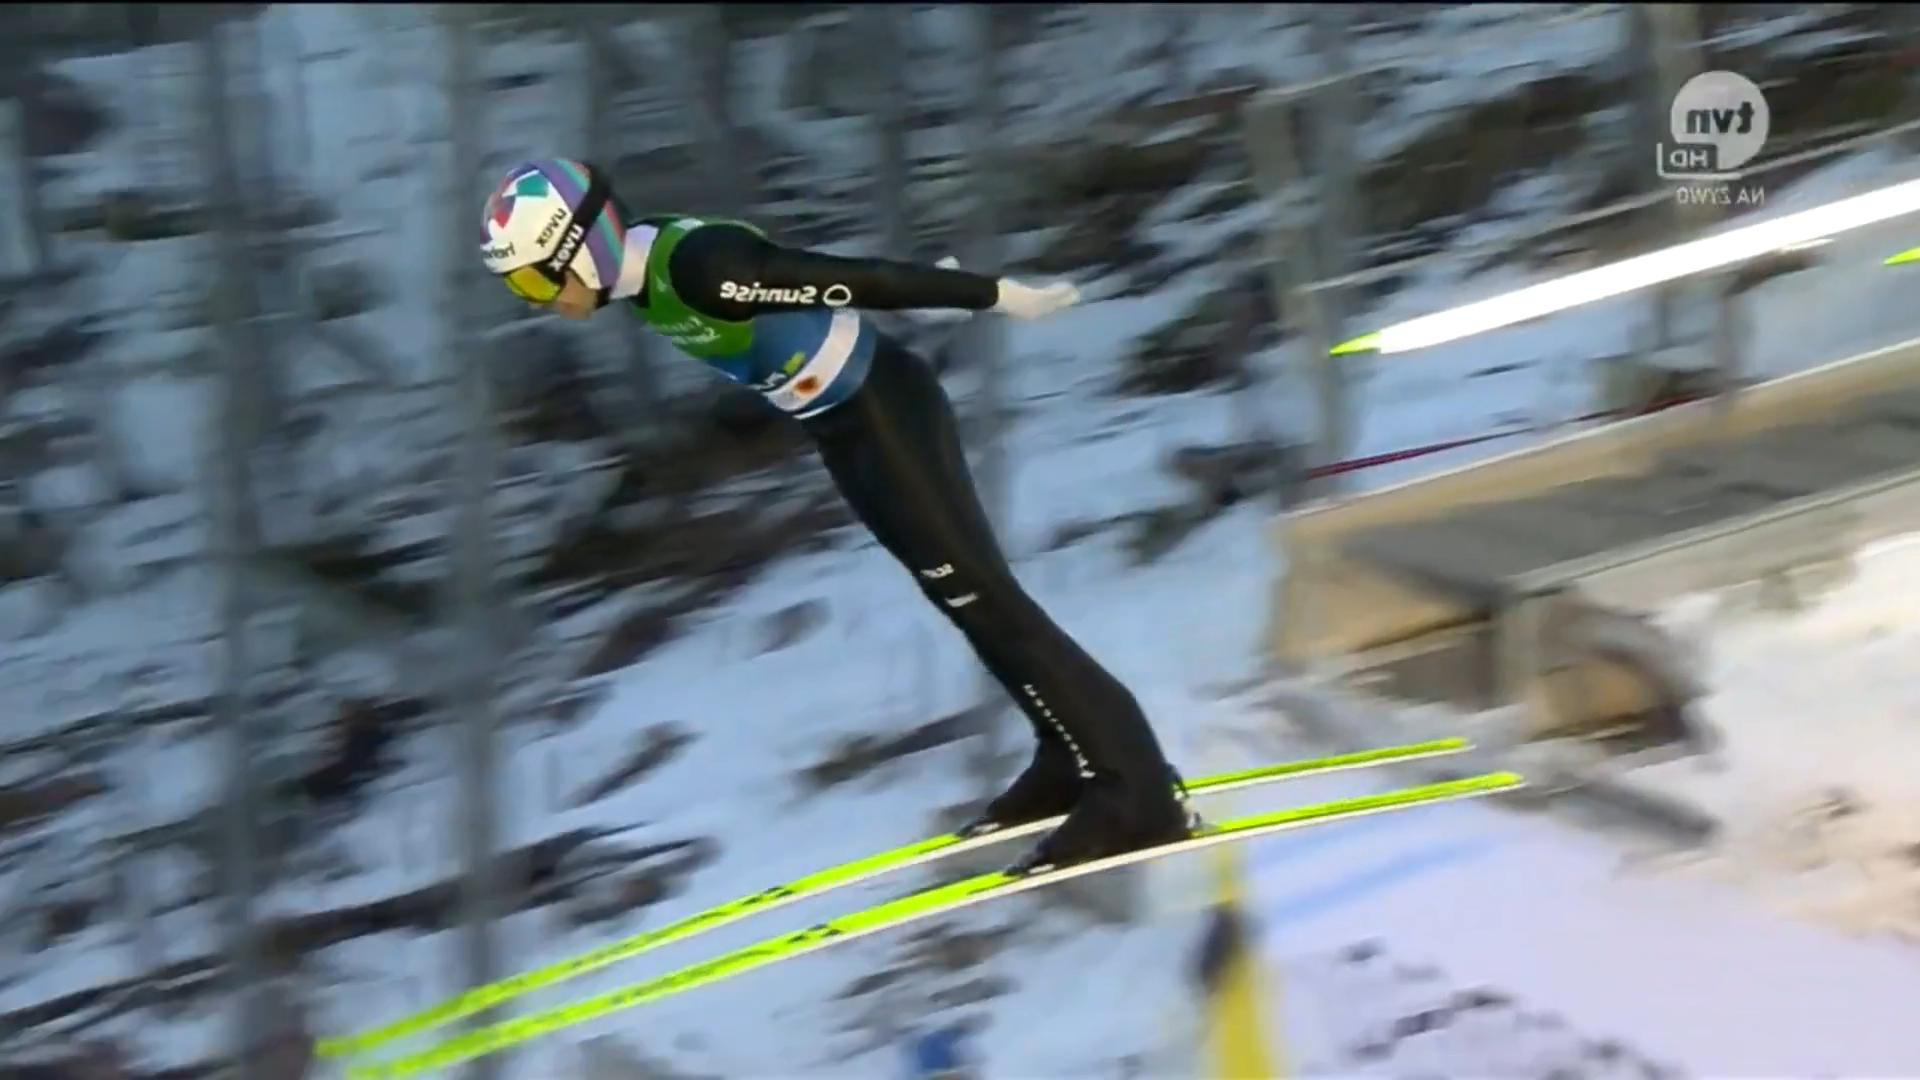prog: (1346, 542, 1648, 637)
